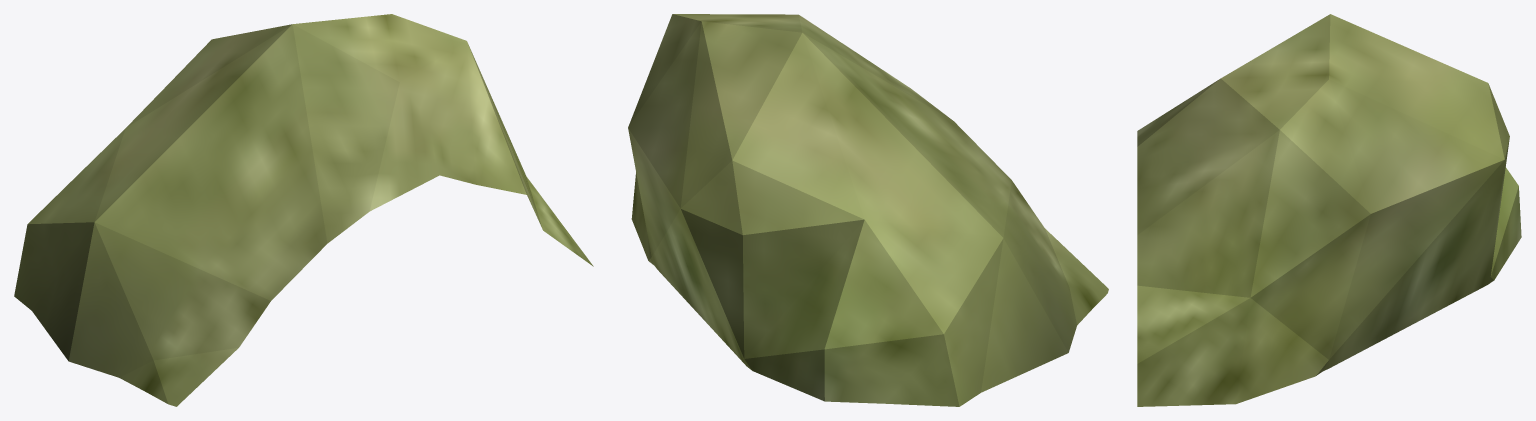
3 views of the same model, side by side, from view 1: azimuth 30°, elevation 25°; view 2: azimuth 150°, elevation 25°; view 3: azimuth 270°, elevation 25° (orthographic). The views are drawn at different scales.
Bounding box in the file's own units: 0.423 × 0.2346 × 0.2903.
Materials: 1 (1 with a texture image).
